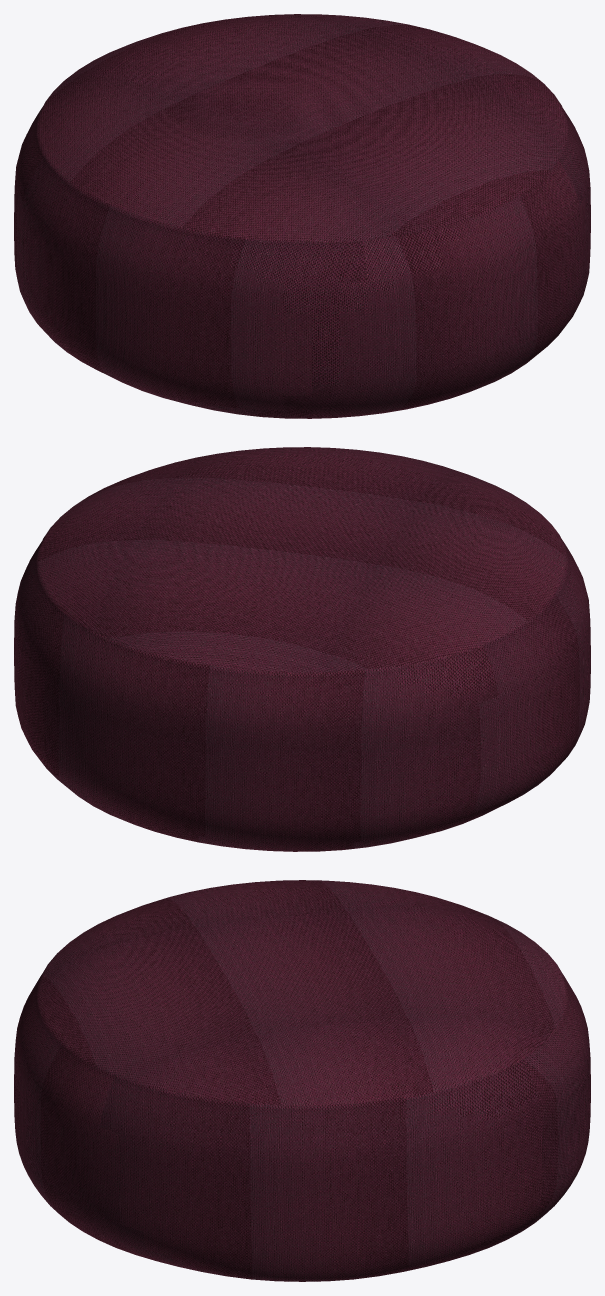
The model's file is OaxacaQueen.gltf.
3 views of the same model, one above another, from view 1: azimuth 30°, elevation 25°; view 2: azimuth 150°, elevation 25°; view 3: azimuth 270°, elevation 25° (orthographic).
Visible parts, largest first — view 1: main; view 2: main; view 3: main.
Part boxes in pixels (left/top/right/bottom): main: left=14, top=14, right=590, bottom=418; main: left=14, top=447, right=590, bottom=851; main: left=14, top=880, right=590, bottom=1281.
Bounding box in the file's own units: 7.5 × 3.25 × 7.5.
1 material, 1 textured.
